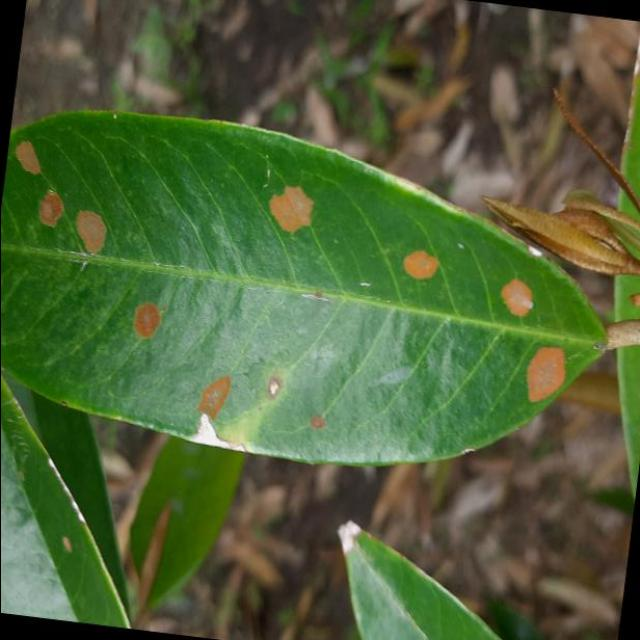Algal Leaf Spot: (0, 87, 635, 490)
